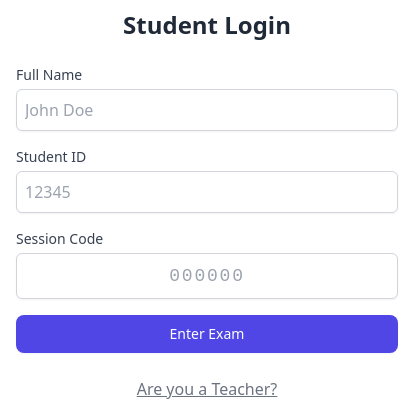
Test case: StudentLogin › should strip non-numeric characters from Student ID
Type "a1b2" into the field labelled "Student ID" at [207, 192], box [16, 171, 398, 213]
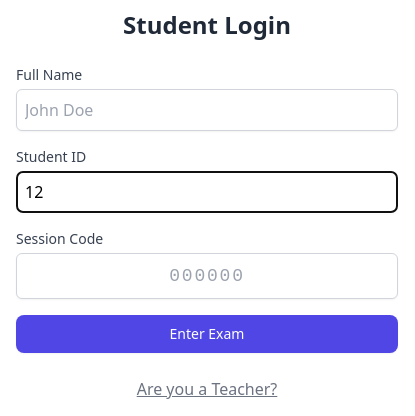
Expected: the field labelled "Student ID" holds "12", [16, 171, 398, 213]
